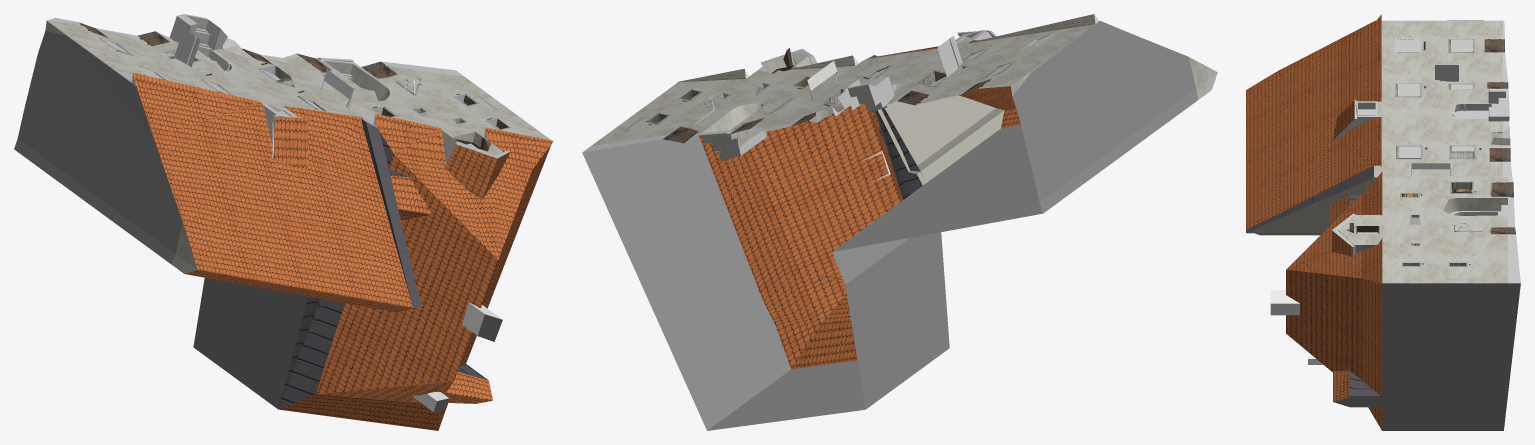
Rendered from Raekoja_tn_4-origo.obj.
The picture shows the model from 3 angles, left to right: view 1: azimuth 30°, elevation 25°; view 2: azimuth 150°, elevation 25°; view 3: azimuth 270°, elevation 25°; orthographic projection. The views are drawn at different scales.
Visible parts, largest first — view 1: Raekoja_tn_4; view 2: Raekoja_tn_4; view 3: Raekoja_tn_4.
Boxes of the visible parts, box(x1,y1,x2,y2) form: Raekoja_tn_4: box(14, 14, 553, 430); Raekoja_tn_4: box(582, 14, 1217, 430); Raekoja_tn_4: box(1246, 14, 1520, 430).
Bounding box in the file's own units: 23.62 × 21.5 × 17.26.
